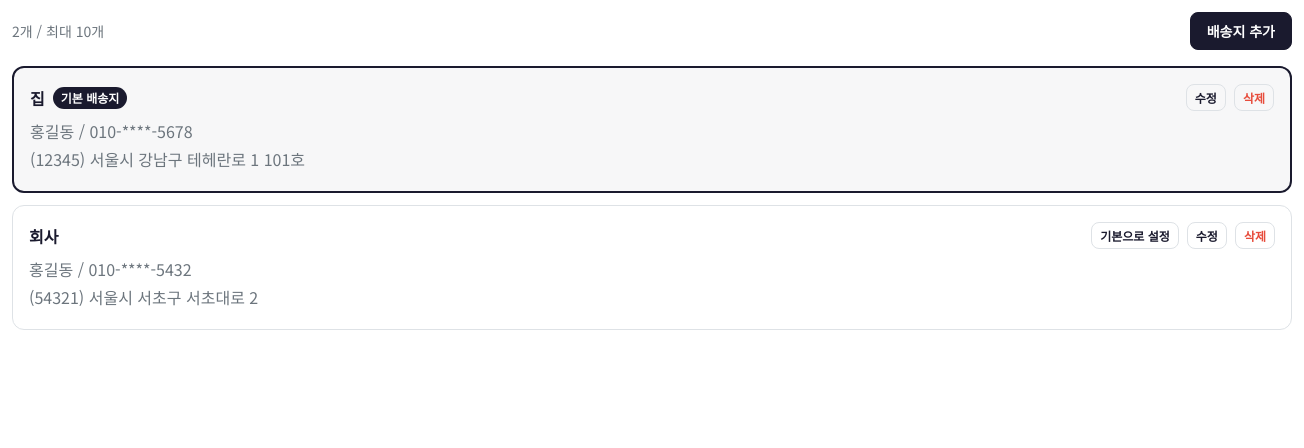
Test: AddressList › 삭제 버튼 클릭 시 확인 다이얼로그를 표시한다
Click the button "삭제" in the row of "기본 배송지": (1254, 98) [1234,84,1274,111]
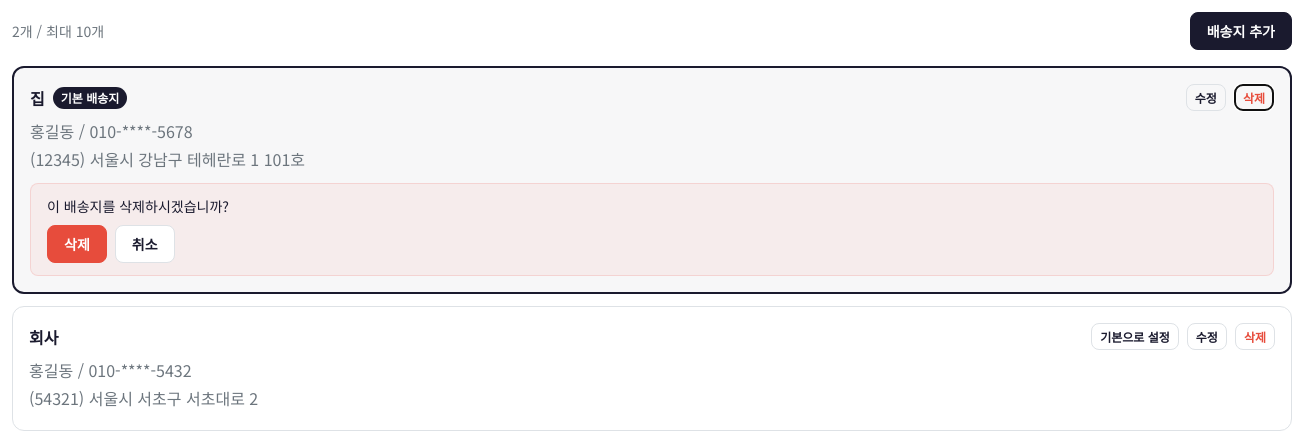
Expected: the text "이 배송지를 삭제하시겠습니까?" is shown, [47,196,229,216]
